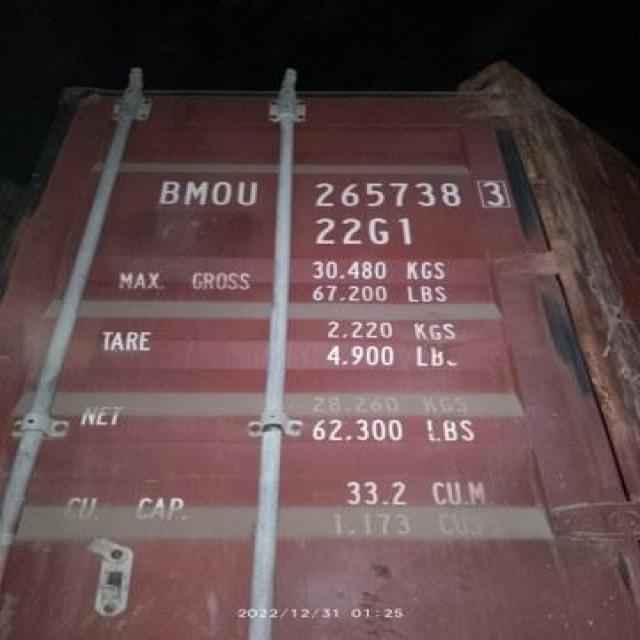container_number_h: (116, 143, 532, 259)
